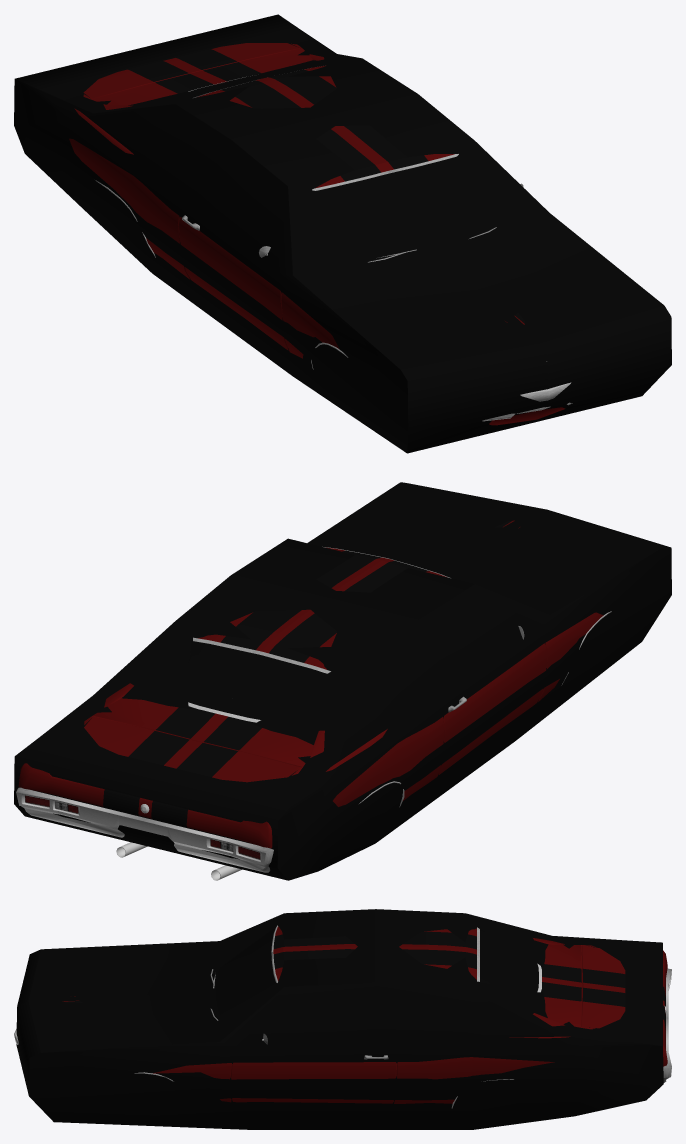
Rendered from Muscle_04.FBX.
The picture shows the model from 3 angles, top to bottom: view 1: azimuth 30°, elevation 25°; view 2: azimuth 150°, elevation 25°; view 3: azimuth 270°, elevation 25°; orthographic projection. The views are drawn at different scales.
Visible parts, largest first — view 1: Object001, car_body; view 2: Object001, car_body; view 3: Object001, car_body.
Part boxes in pixels (bbox=[...]): Object001: bbox=[14, 14, 671, 453]; car_body: bbox=[69, 43, 572, 425]; Object001: bbox=[14, 482, 671, 880]; car_body: bbox=[16, 520, 611, 880]; Object001: bbox=[16, 909, 663, 1129]; car_body: bbox=[14, 925, 671, 1108].
Size of the model in its own units: 27.89 by 72.47 by 17.23.
